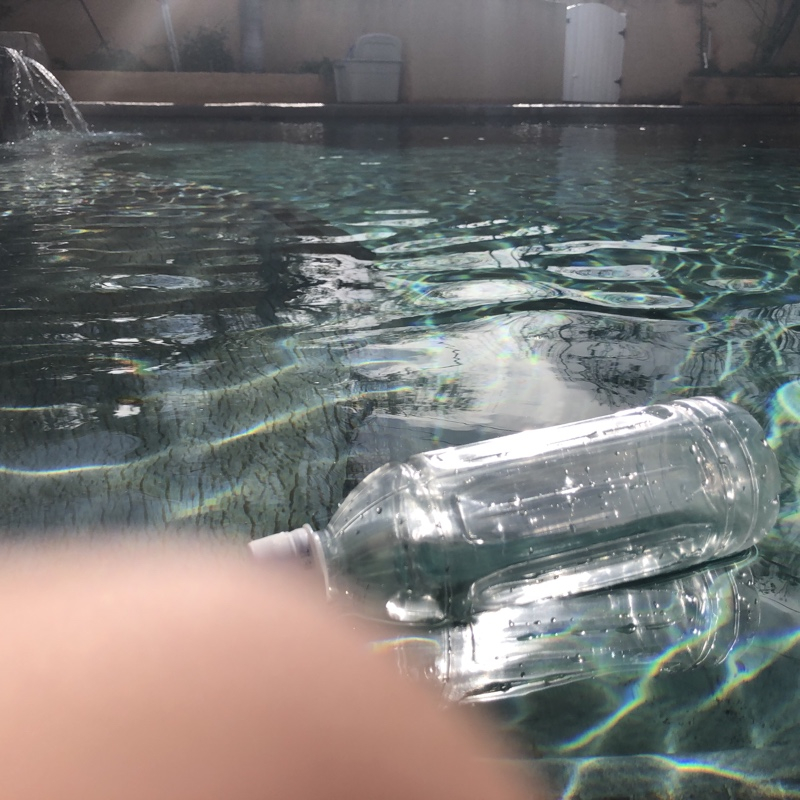Plastic Bottle: (247, 392, 783, 599)
